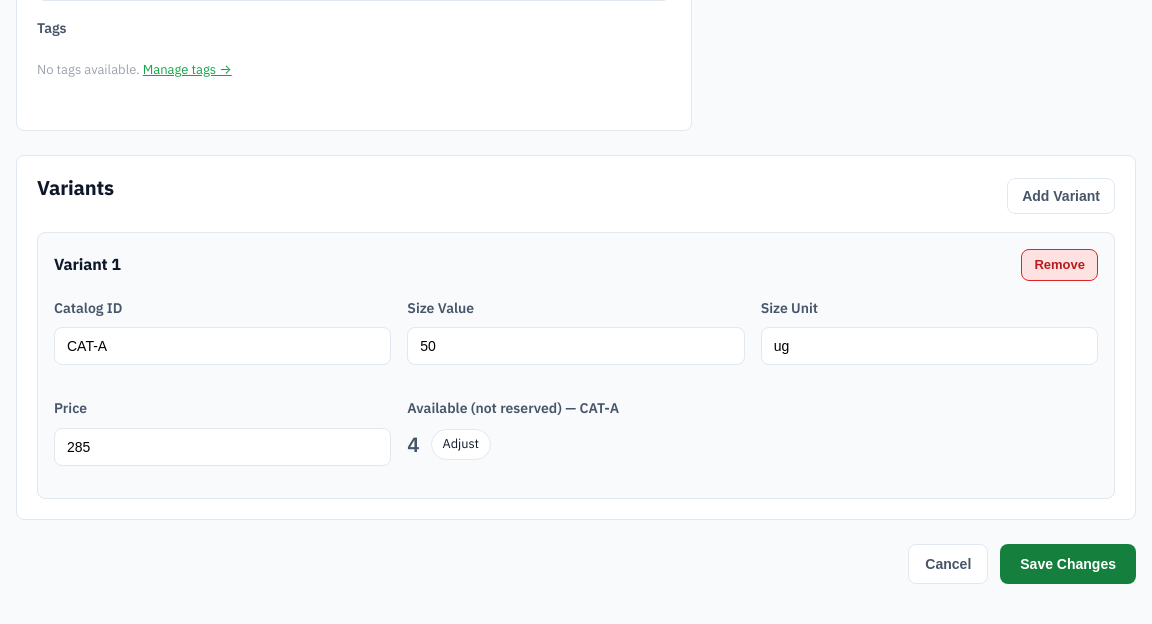
Test case: AdminProductDetailPage stock › announces a refusal rather than leaving the dialog silent
(page scrolled)
Expected: the text "4" is shown, top-left (407, 428), bottom-right (420, 461)
Step 1. Click the button "Adjust" → (461, 444), box top-left (431, 428), bottom-right (491, 460)
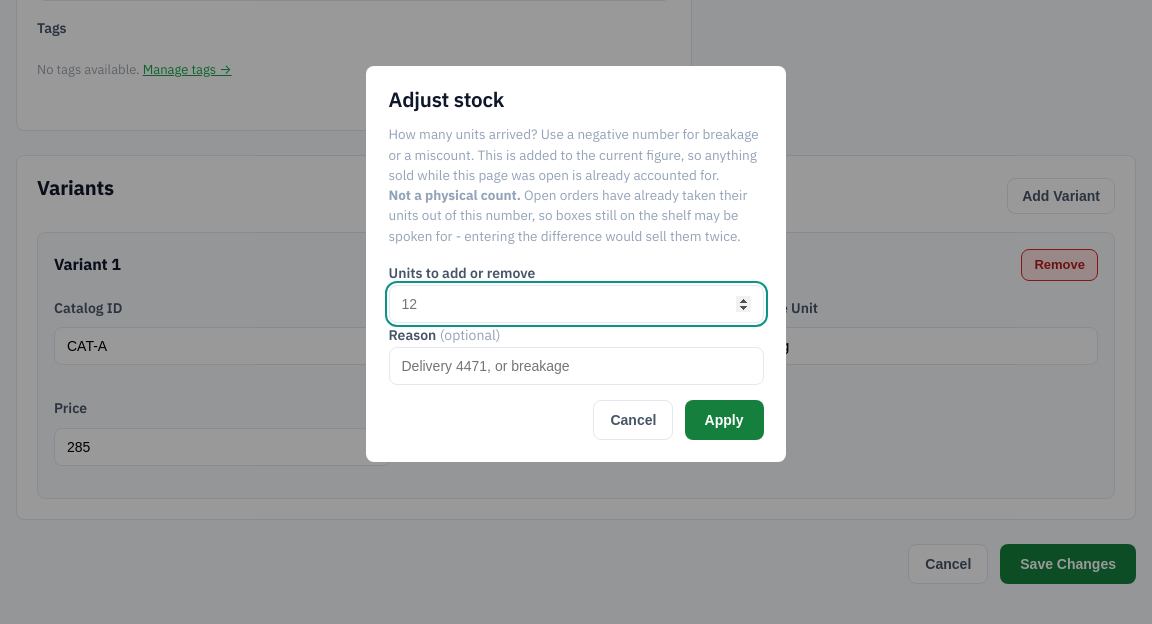
Step 2. Type "-5" into the number field labelled "Units to add or remove" → (576, 304), box top-left (388, 285), bottom-right (764, 323)
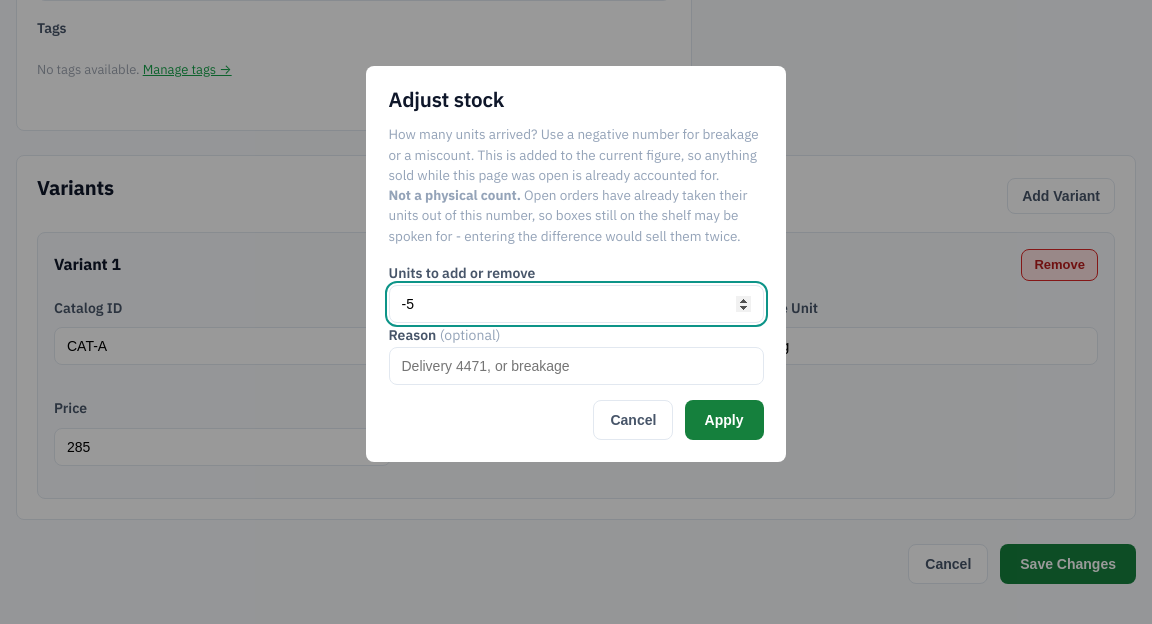
Step 3. Click the button "Apply" → (724, 420), box top-left (685, 400), bottom-right (764, 440)
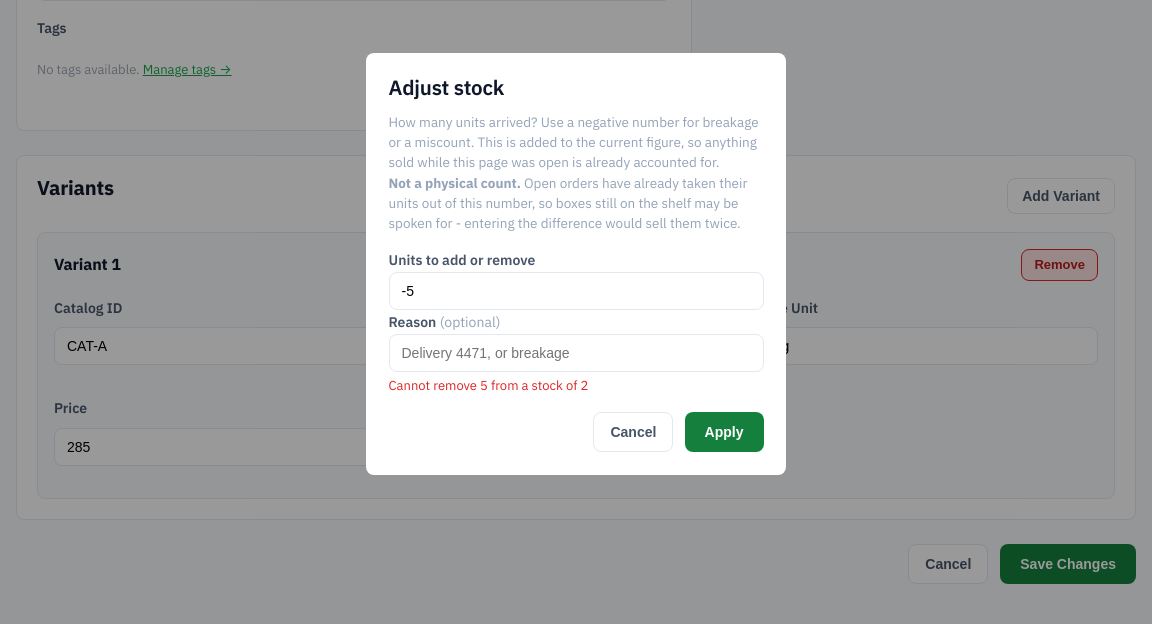
Result: the message shows "Cannot remove 5" at top-left (388, 377), bottom-right (588, 394)
